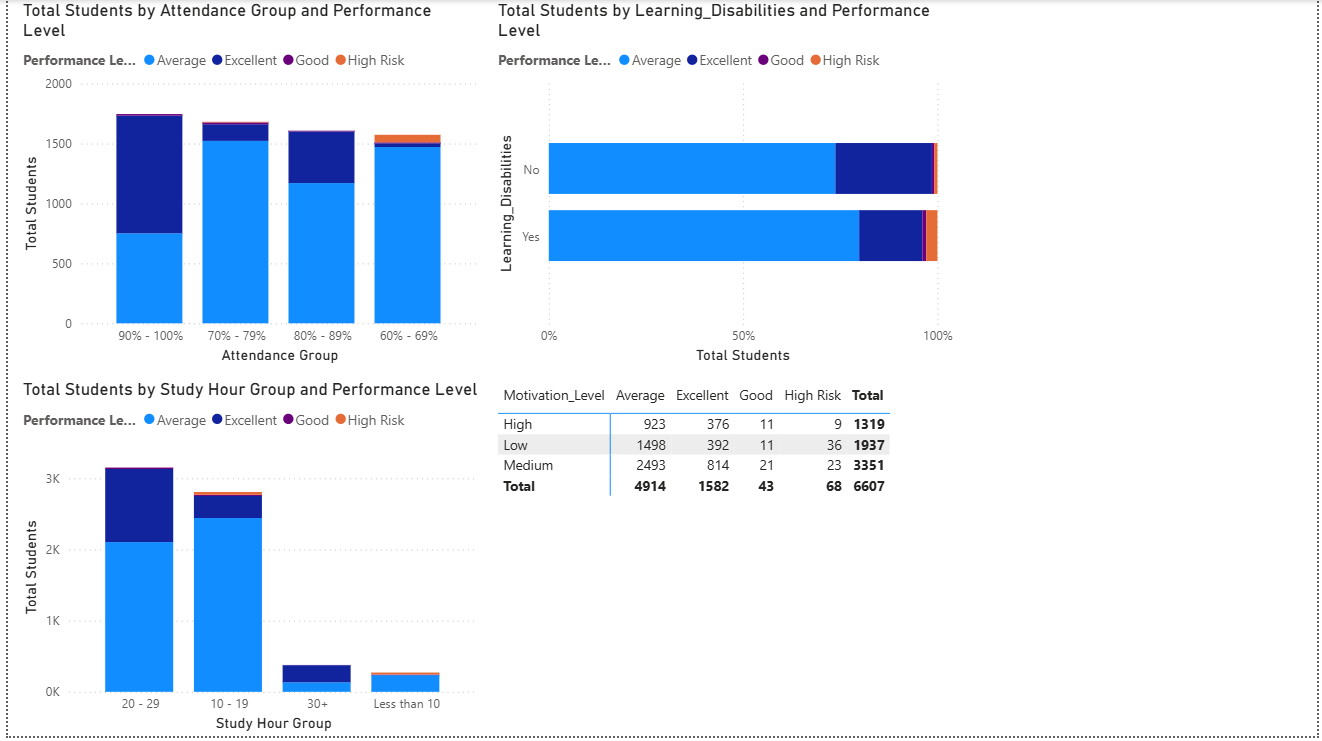

This screenshot's page, from the dashboard's own definition file:
{"tool":"powerbi","page":{"name":"Risk Analysis","canvas":[1280,720],"ordinal":3},"visuals":[{"type":"columnChart","fields":{"Category":["StudentPerformanceFactors.Attendance Group"],"Series":["StudentPerformanceFactors.Performance Level"],"Y":["StudentPerformanceFactors.Total Students"]},"box":[10,0,455,360],"z":0},{"type":"columnChart","fields":{"Y":["StudentPerformanceFactors.Total Students"],"Category":["StudentPerformanceFactors.Study Hour Group"],"Series":["StudentPerformanceFactors.Performance Level"]},"box":[10,370,455,350],"z":1},{"type":"hundredPercentStackedBarChart","fields":{"Category":["StudentPerformanceFactors.Learning_Disabilities"],"Y":["StudentPerformanceFactors.Total Students"],"Series":["StudentPerformanceFactors.Performance Level"]},"box":[475,0,455,360],"z":2},{"type":"pivotTable","fields":{"Rows":["StudentPerformanceFactors.Motivation_Level"],"Columns":["StudentPerformanceFactors.Performance Level"],"Values":["StudentPerformanceFactors.Total Students"]},"box":[475,370,455,350],"z":3}]}

Visuals, with their boxes in screenshot pixels (x1, y1, x2, y2), scaled from the page's 1280x720 canvas onto the 1322x741 screenshot:
columnChart - StudentPerformanceFactors.Attendance Group x StudentPerformanceFactors.Performance Level: bbox(10, 0, 480, 370)
columnChart - StudentPerformanceFactors.Total Students x StudentPerformanceFactors.Study Hour Group: bbox(10, 381, 480, 740)
hundredPercentStackedBarChart - StudentPerformanceFactors.Learning_Disabilities x StudentPerformanceFactors.Total Students: bbox(491, 0, 961, 370)
pivotTable - StudentPerformanceFactors.Motivation_Level x StudentPerformanceFactors.Performance Level: bbox(491, 381, 961, 740)
